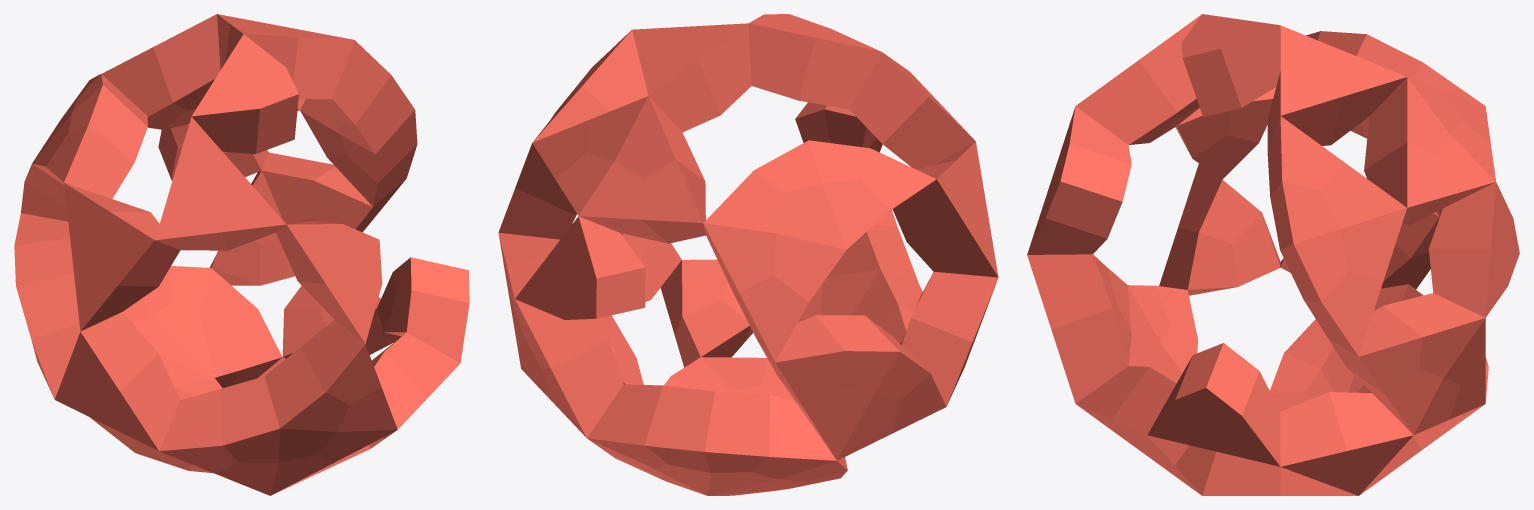
The model's file is Sun.glb.
The picture shows the model from 3 angles, left to right: view 1: azimuth 30°, elevation 25°; view 2: azimuth 150°, elevation 25°; view 3: azimuth 270°, elevation 25°; orthographic projection. The views are drawn at different scales.
Visible parts, largest first — view 1: Sun; view 2: Sun; view 3: Sun.
Part boxes in pixels (bbox=[...]): Sun: bbox=[14, 14, 469, 495]; Sun: bbox=[498, 14, 998, 495]; Sun: bbox=[1027, 14, 1519, 495].
Size of the model in its own units: 1.9 by 2 by 1.94.
